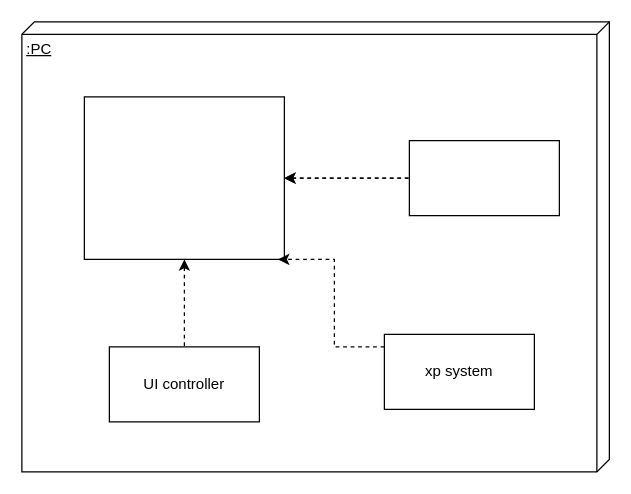
Image size: 631x494. Some labels were removed from this diagram. The centre of each missing label's shape, as x and y in pixels:
enemy ai controller: the point at 483,177
Player controller: the point at 183,177
